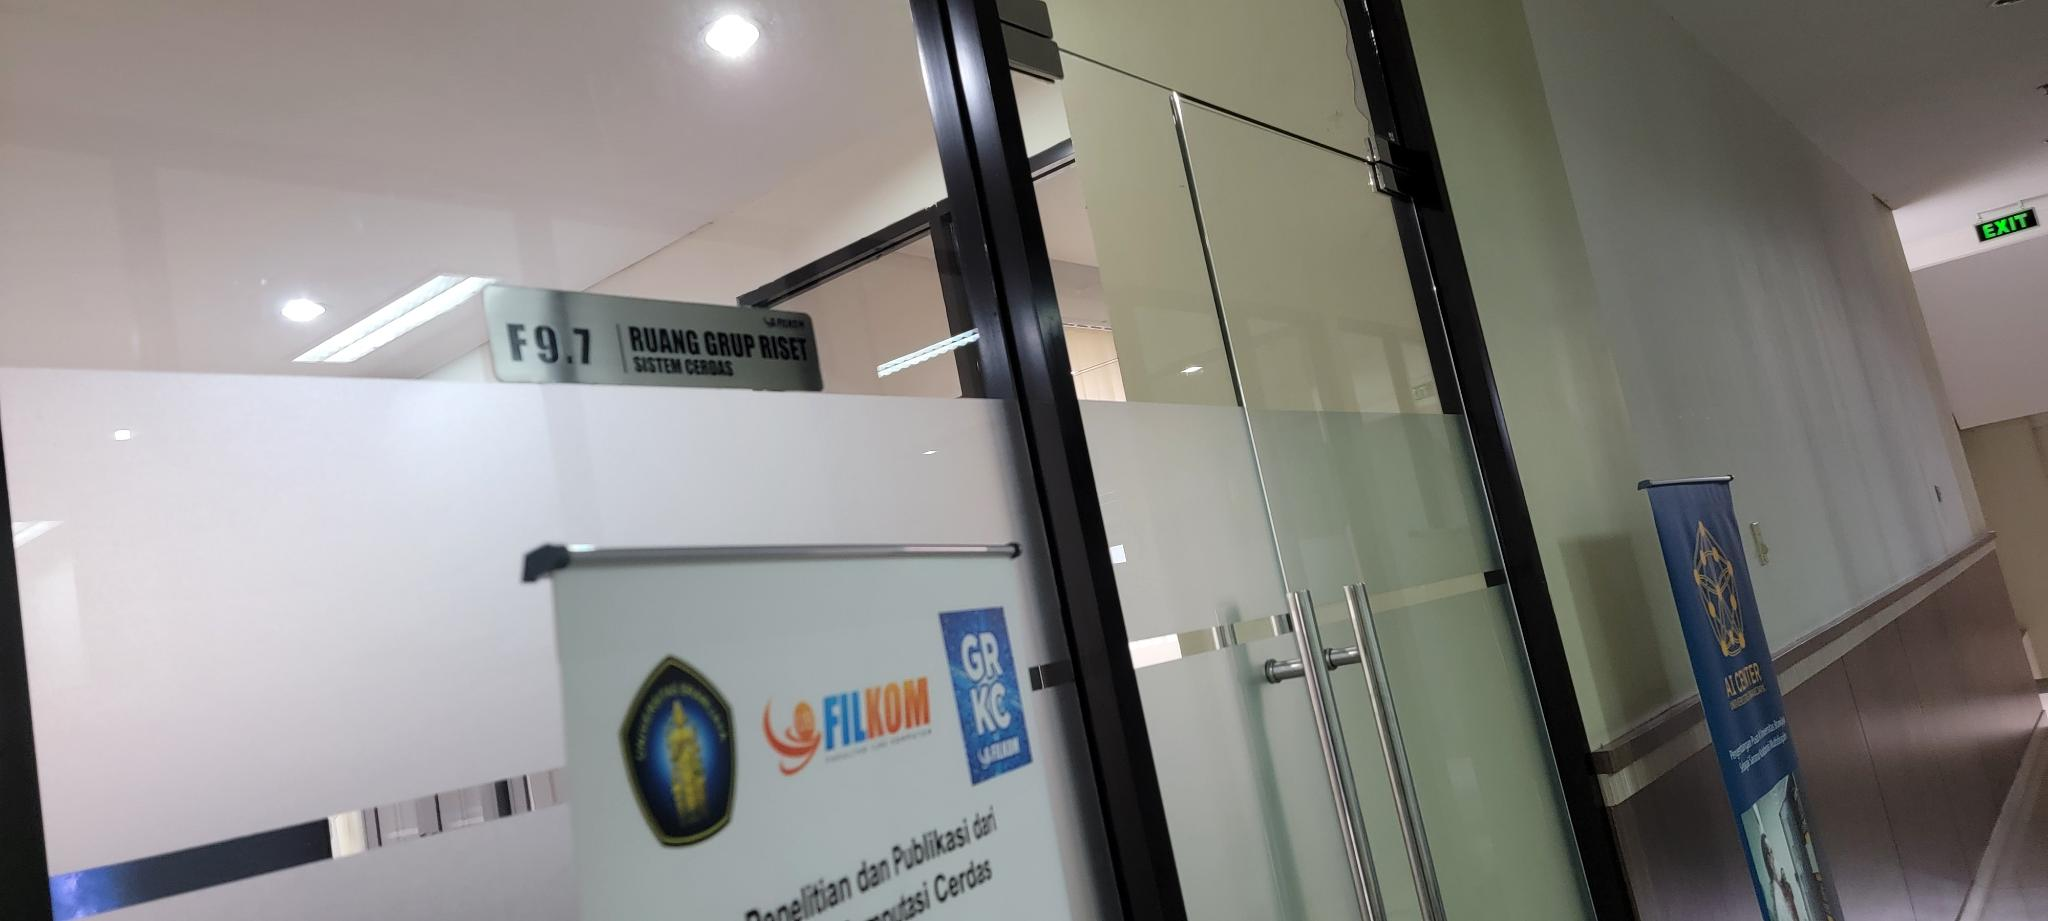plate: (483, 282, 827, 393)
